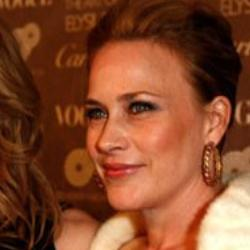face: (60, 4, 246, 220)
